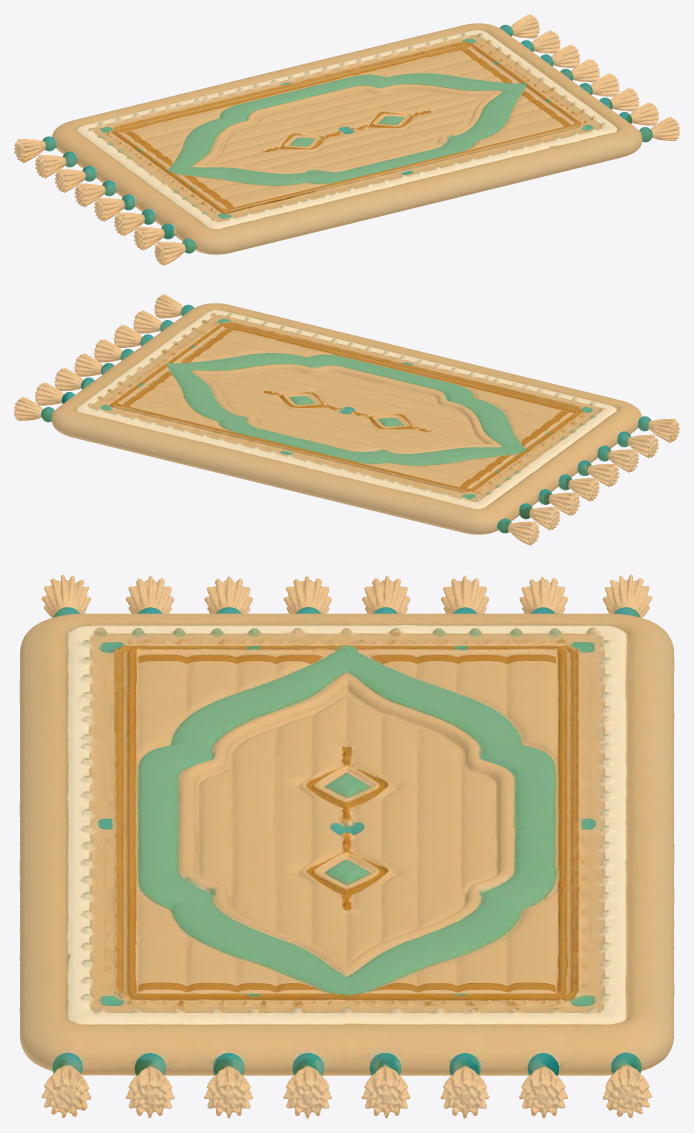
File: prayer-rug-variant-07-sand-geometric-path.glb
3 views of the same model, one above another, from view 1: azimuth 30°, elevation 25°; view 2: azimuth 150°, elevation 25°; view 3: azimuth 270°, elevation 25° (orthographic). The views are drawn at different scales.
Parts seen in each view (by area): view 1: mesh_node; view 2: mesh_node; view 3: mesh_node.
Part boxes in pixels (x1=…): mesh_node: x1=14, y1=14, x2=679, y2=265; mesh_node: x1=14, y1=294, x2=679, y2=545; mesh_node: x1=19, y1=574, x2=674, y2=1118.
Size of the model in its own units: 1.9 by 0.095 by 1.04.
Materials: 1 (1 with a texture image).
